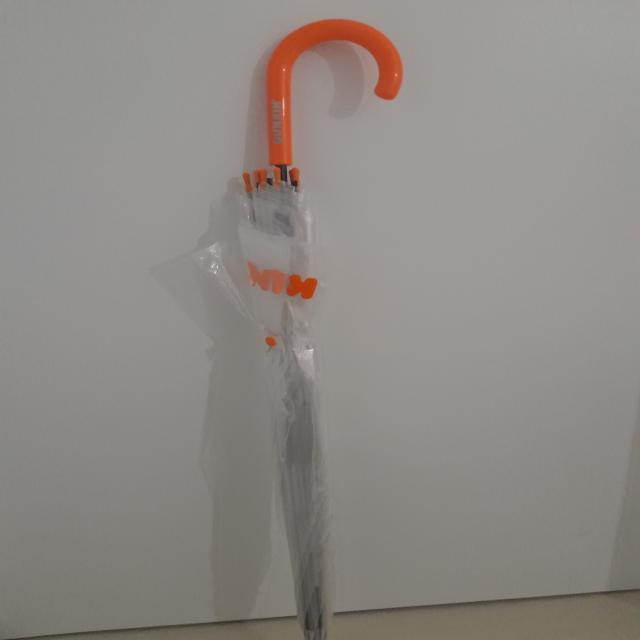umbrella: (204, 21, 406, 634)
